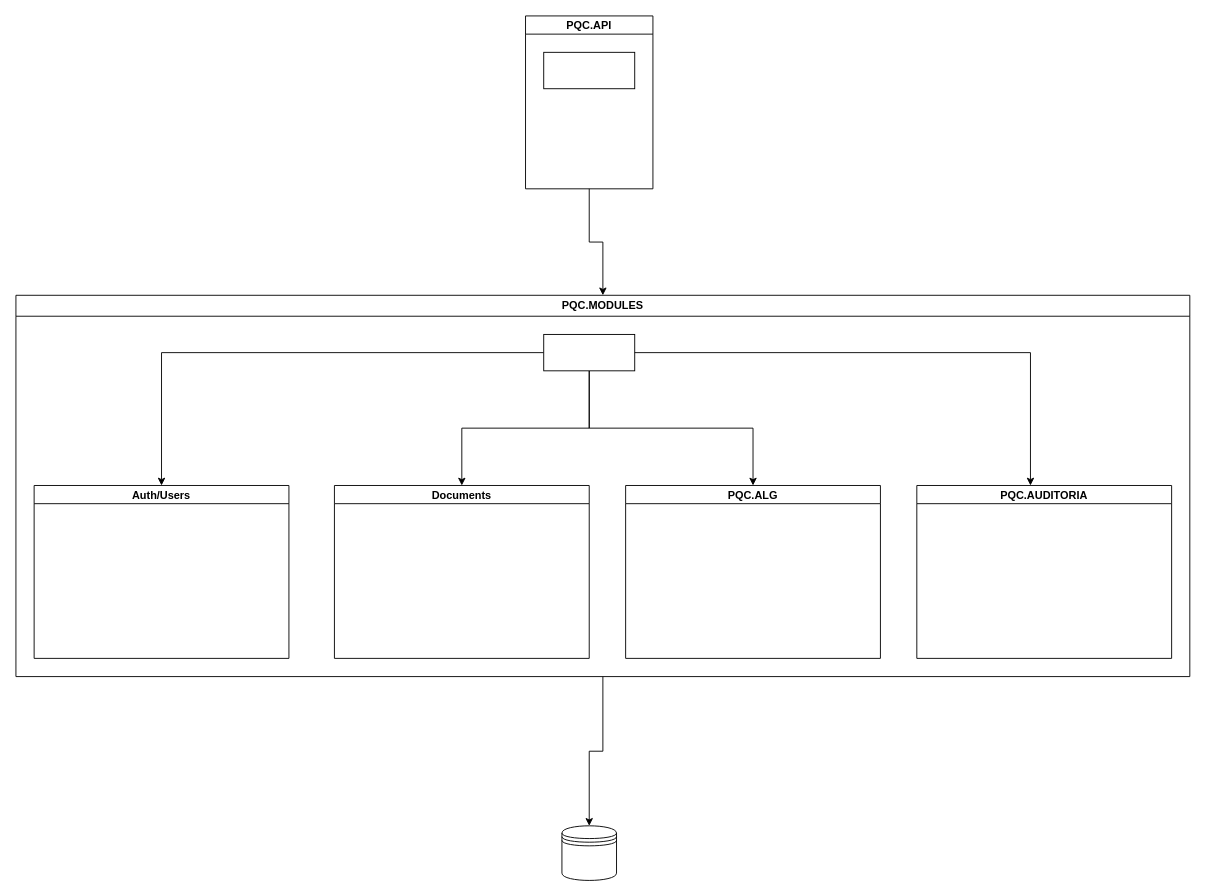
Some shapes in this 1206 by 896 pixel diagram are drawn without their labels. The centre of each missing label's shape, as x and y in pixels:
"API Gateway" goes at (589,70).
"DataBase" goes at (589,852).
"Middleware" goes at (589,352).
